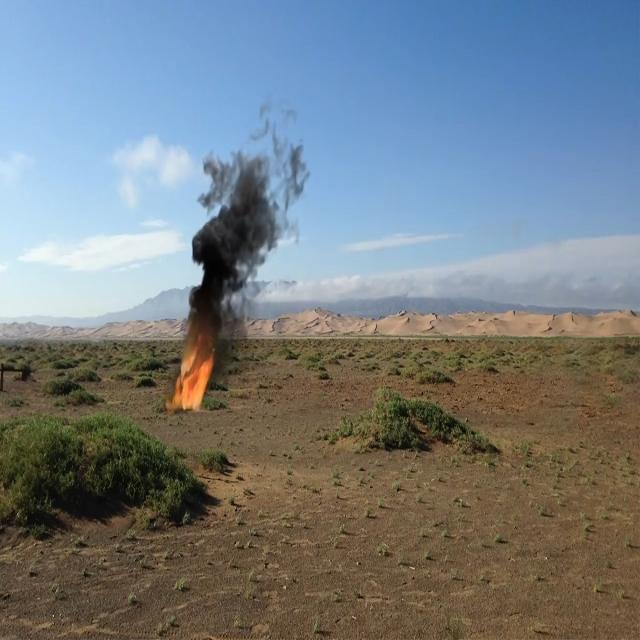Fire: (174, 344, 213, 412)
Smoke: (190, 153, 290, 313)
